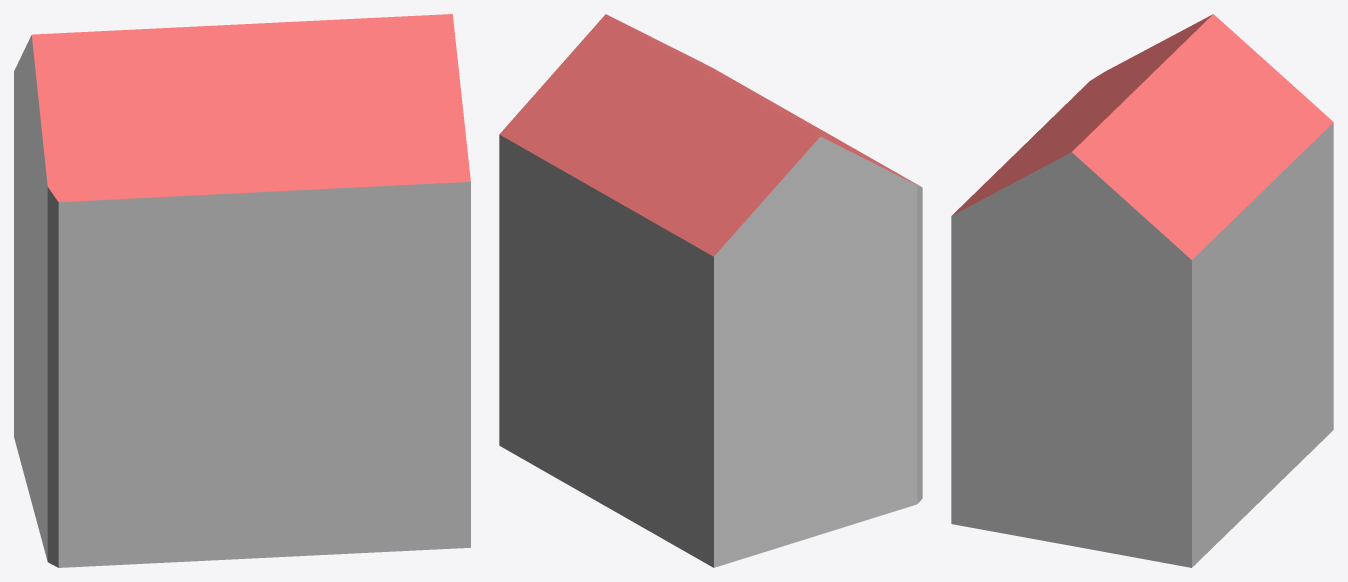
The model's file is DEBY_LOD2_4907008.gltf.
3 renders of one model, left to right at view 1: azimuth 30°, elevation 25°; view 2: azimuth 150°, elevation 25°; view 3: azimuth 270°, elevation 25°, orthographic. The views are drawn at different scales.
Visible parts, largest first — view 1: Z_UP; view 2: Z_UP; view 3: Z_UP.
Boxes of the visible parts, box(x1,y1,x2,y2) form: Z_UP: box(14, 14, 470, 567); Z_UP: box(499, 14, 922, 567); Z_UP: box(951, 14, 1333, 567).
Size of the model in its own units: 19.97 by 20.35 by 17.91.
